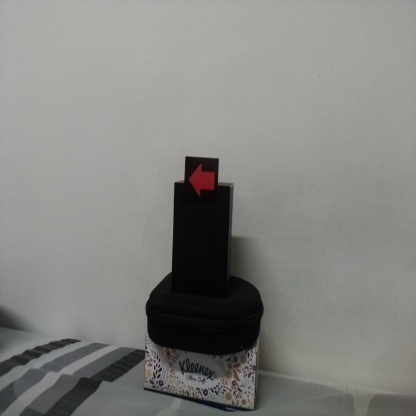id_4: (186, 157, 219, 204)
